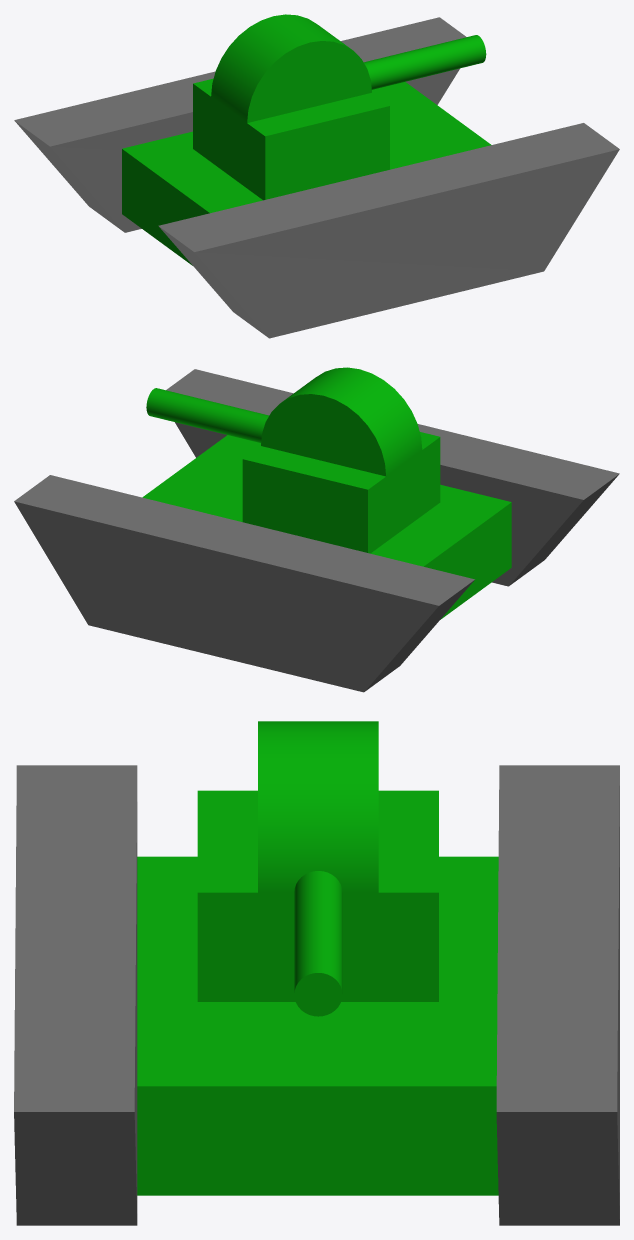
File: tank2.dae
The picture shows the model from 3 angles, top to bottom: view 1: azimuth 30°, elevation 25°; view 2: azimuth 150°, elevation 25°; view 3: azimuth 270°, elevation 25°; orthographic projection. The views are drawn at different scales.
Parts seen in each view (by area): view 1: CRAWLER_TRACK_R, CRAWLER_TRACK_L, CANNON_Y, CHASSIS, CANNON_P, BARREL; view 2: CRAWLER_TRACK_L, CRAWLER_TRACK_R, CANNON_Y, CHASSIS, CANNON_P, BARREL; view 3: CHASSIS, CRAWLER_TRACK_R, CRAWLER_TRACK_L, CANNON_Y, CANNON_P, BARREL.
Boxes of the visible parts, x1,y1,x2,y2 form: CRAWLER_TRACK_R: (158, 123, 619, 338); CRAWLER_TRACK_L: (14, 17, 466, 232); CANNON_Y: (193, 78, 389, 200); CHASSIS: (122, 82, 491, 265); CANNON_P: (211, 14, 371, 122); BARREL: (364, 35, 486, 89); CRAWLER_TRACK_L: (14, 475, 474, 692); CRAWLER_TRACK_R: (166, 369, 619, 586); CANNON_Y: (242, 432, 440, 553); CHASSIS: (142, 435, 511, 619); CANNON_P: (261, 367, 422, 476); BARREL: (146, 388, 268, 442); CHASSIS: (137, 856, 498, 1195); CRAWLER_TRACK_R: (14, 765, 137, 1225); CRAWLER_TRACK_L: (496, 765, 619, 1225); CANNON_Y: (197, 790, 438, 1001); CANNON_P: (258, 721, 378, 892); BARREL: (294, 871, 342, 1016).
Size of the model in its own units: 0.68 by 0.5023 by 0.33.
